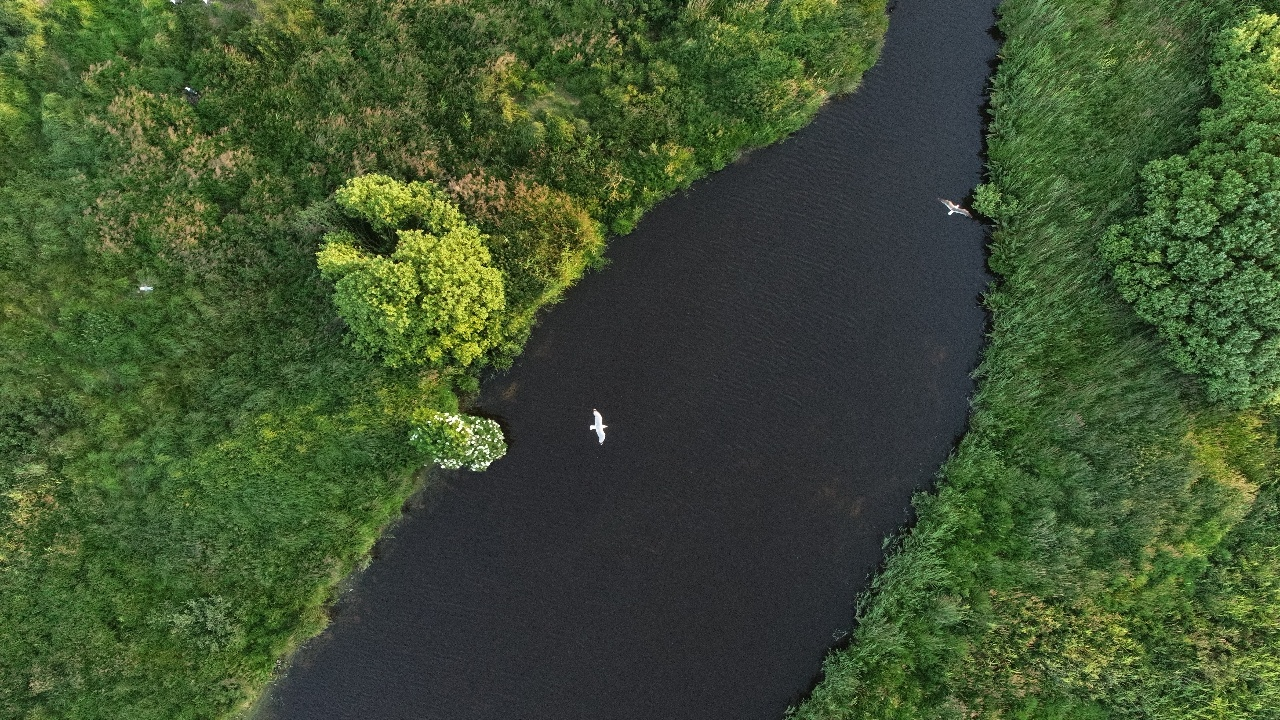Bird: (579, 404, 622, 447), (934, 189, 978, 225), (132, 275, 161, 302), (175, 75, 204, 102)
